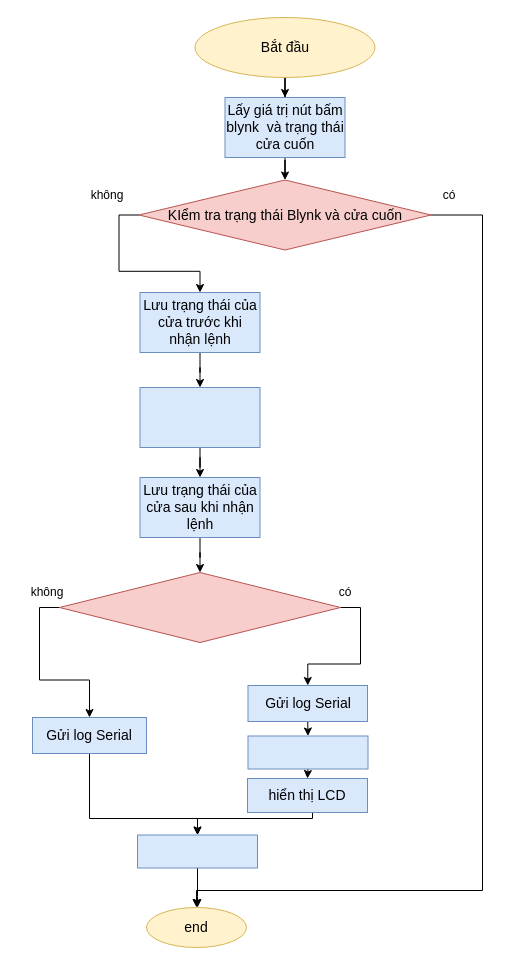
This 508x965 diagram has some shape labels left out. Each missing label, with the centre of its shape:
"Chuyển đổi trạng thái cửa" goes at (199,417).
"Gửi log Blynk" goes at (307,752).
"Kiểm tra trạng thái cửa có thay đổi không" goes at (199,607).
"đồng bộ blynk" goes at (197,851).
